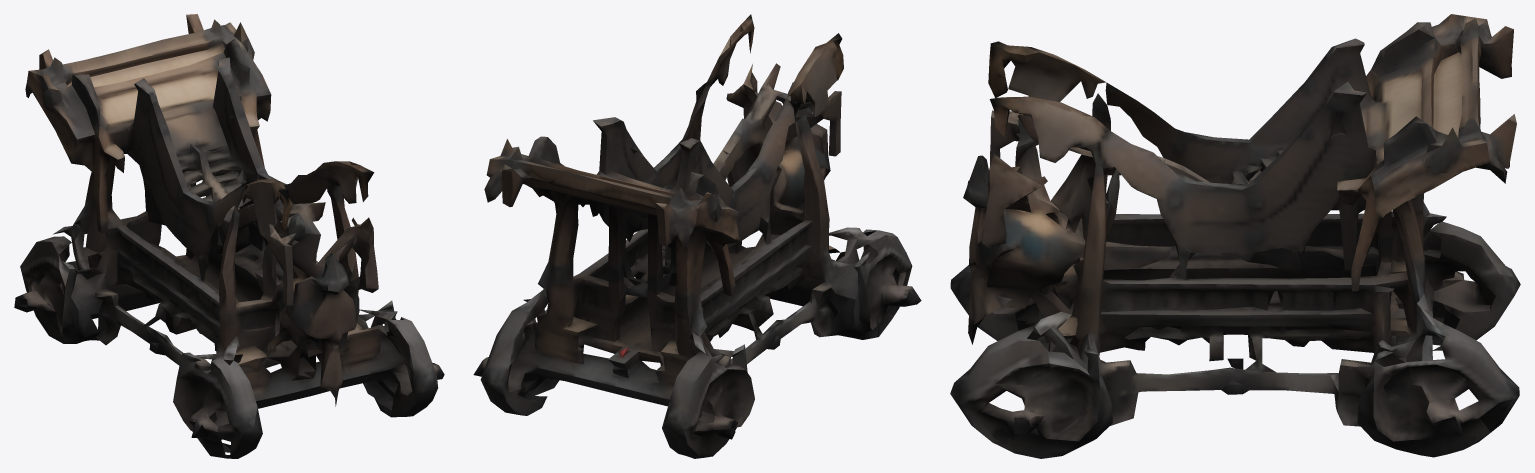
File: ashen-siege-ram.glb
3 renders of one model, left to right at view 1: azimuth 30°, elevation 25°; view 2: azimuth 150°, elevation 25°; view 3: azimuth 270°, elevation 25°, orthographic. The views are drawn at different scales.
Visible parts, largest first — view 1: a-medieval-four-wheeled-siege-engine-long_optimized; view 2: a-medieval-four-wheeled-siege-engine-long_optimized; view 3: a-medieval-four-wheeled-siege-engine-long_optimized.
Part boxes in pixels (x1=…): a-medieval-four-wheeled-siege-engine-long_optimized: x1=14, y1=14, x2=444, y2=458; a-medieval-four-wheeled-siege-engine-long_optimized: x1=473, y1=14, x2=921, y2=458; a-medieval-four-wheeled-siege-engine-long_optimized: x1=950, y1=14, x2=1520, y2=458.
Size of the model in its own units: 0.6454 by 0.6553 by 1.
Materials: 1 (1 with a texture image).
